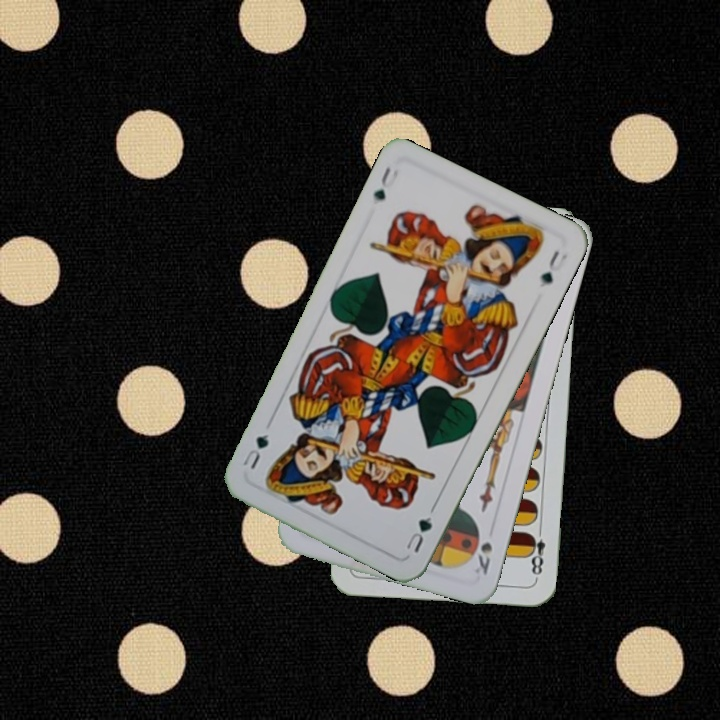E8: (524, 522, 548, 581)
GU: (402, 512, 435, 556), (369, 163, 401, 203)
SK: (468, 527, 495, 578)
